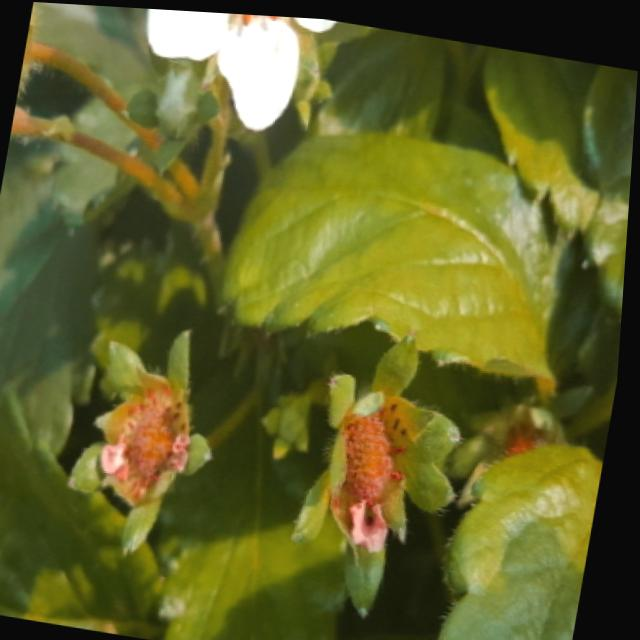Blossom Blight: (344, 398, 415, 518), (123, 389, 189, 493)
